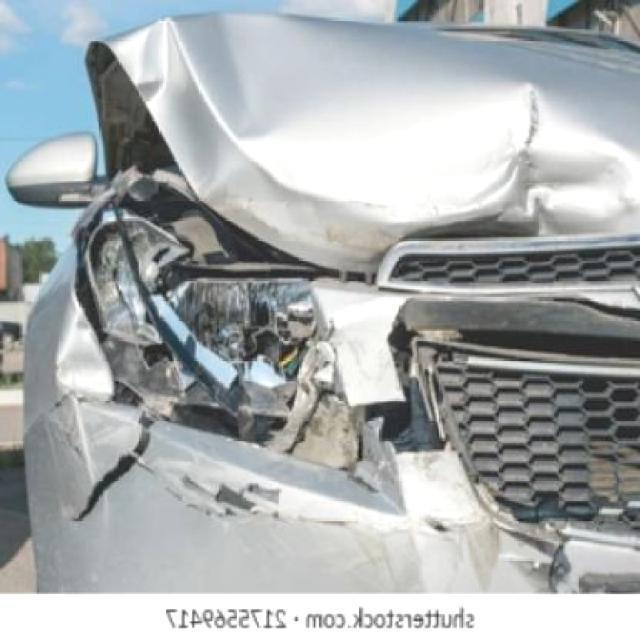minor: (405, 517, 451, 537)
moderate: (169, 477, 286, 522)
severe: (8, 14, 640, 592)
